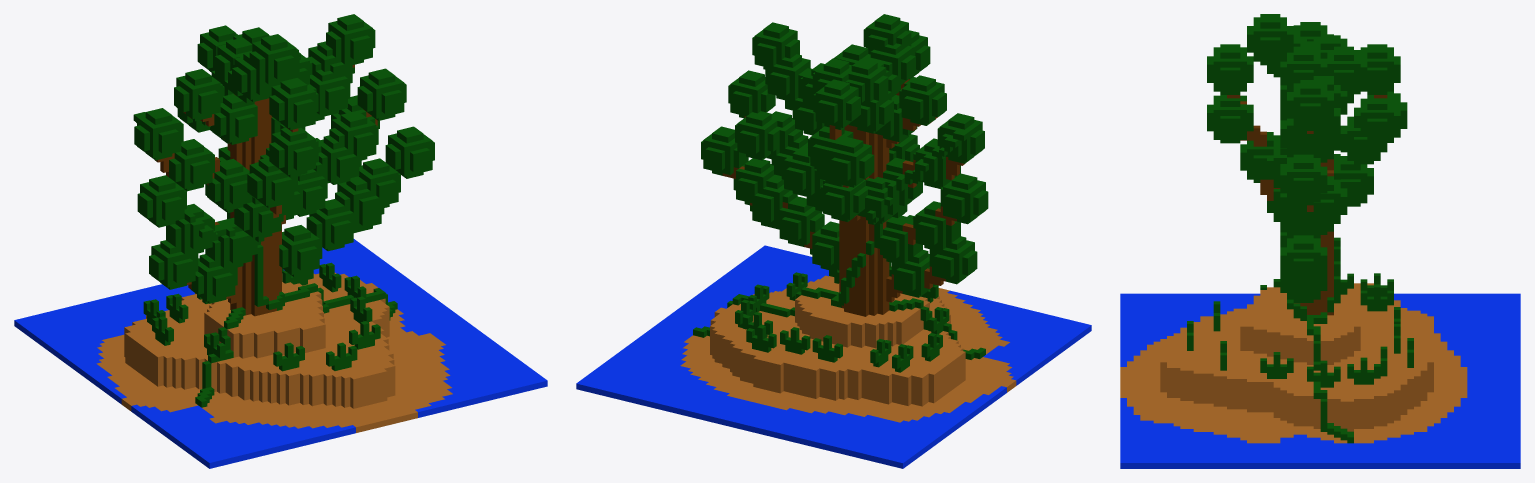
File: playa.obj
3 renders of one model, left to right at view 1: azimuth 30°, elevation 25°; view 2: azimuth 150°, elevation 25°; view 3: azimuth 270°, elevation 25°, orthographic. The views are drawn at different scales.
Size of the model in its own units: 6 by 5.8 by 6.
Materials: 1 (1 with a texture image).
